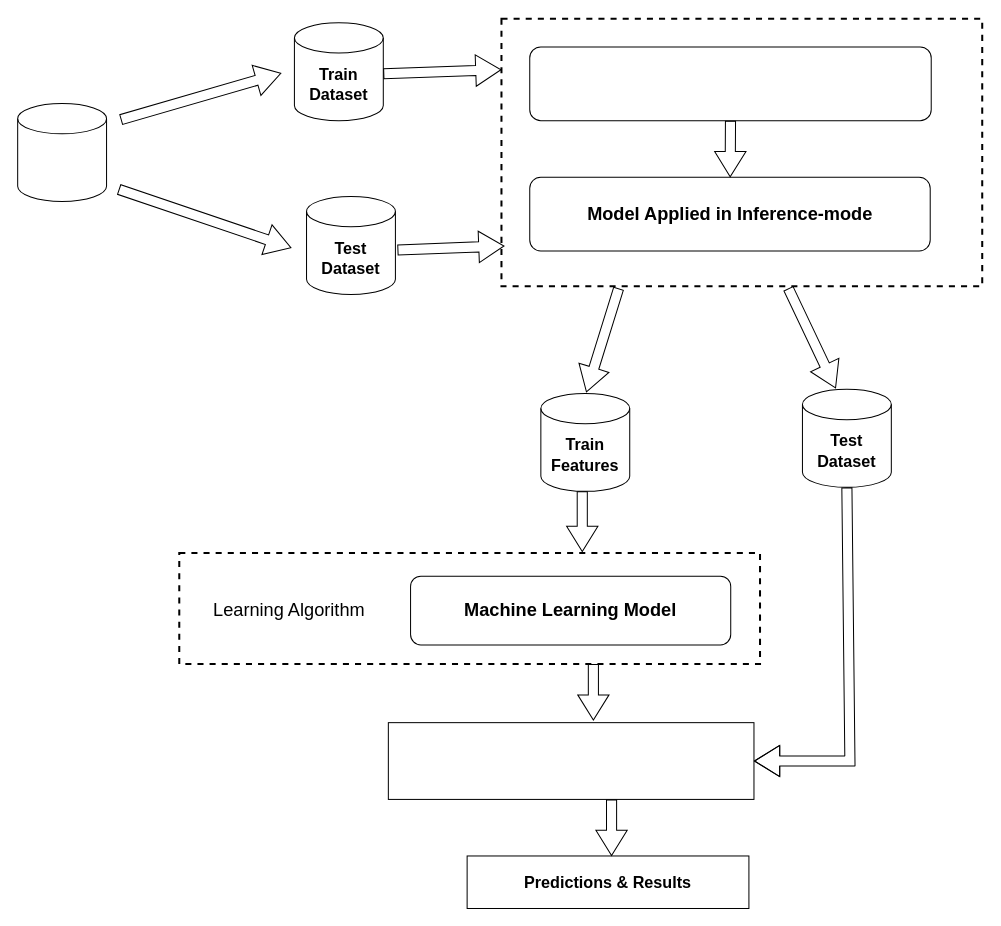
This 1001x926 diagram has some shape labels left out. Each missing label, with the box of its shape:
Dataset: (17, 103, 107, 201)
Model-Specific Preprocessing: (529, 46, 931, 121)
Trained Model: (387, 722, 754, 799)
